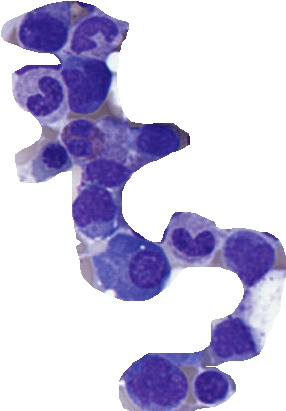objectness: (106, 239, 156, 289), (23, 74, 73, 124), (69, 10, 119, 60), (223, 230, 273, 280), (56, 115, 106, 165), (168, 217, 218, 267), (132, 360, 182, 410), (63, 59, 113, 109), (86, 140, 136, 190), (128, 116, 178, 166), (70, 184, 120, 234), (206, 314, 256, 364), (28, 131, 78, 181), (186, 362, 236, 411)
